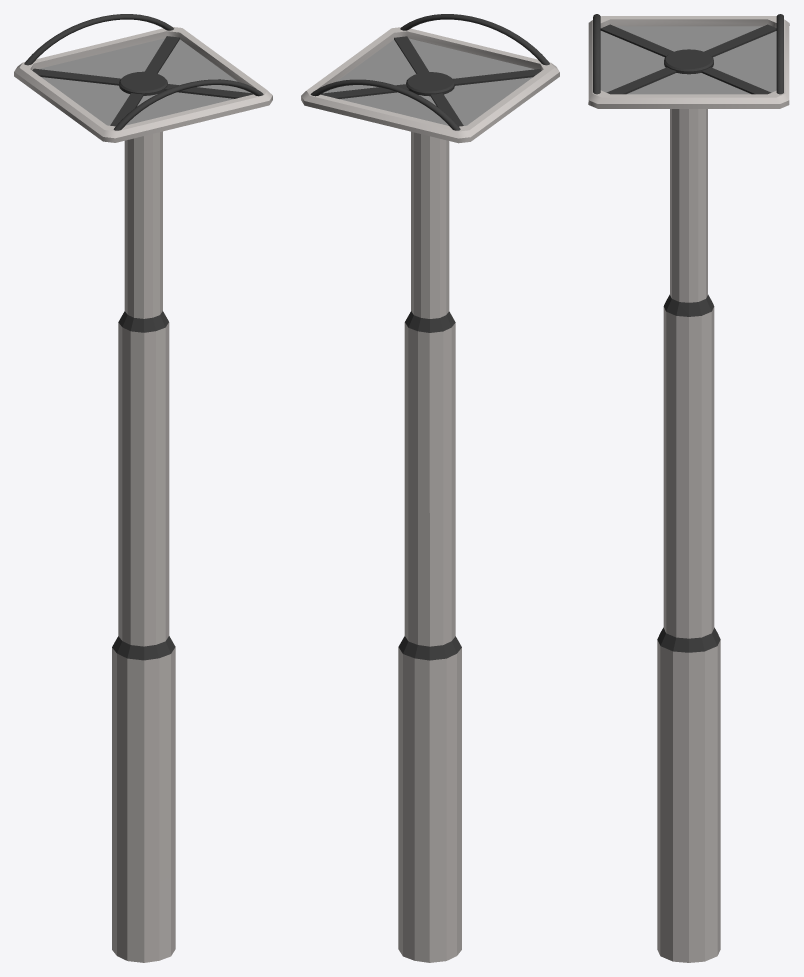
Rendered from piston_lift.obj.
3 views of the same model, side by side, from view 1: azimuth 30°, elevation 25°; view 2: azimuth 150°, elevation 25°; view 3: azimuth 270°, elevation 25° (orthographic). The views are drawn at different scales.
Parts seen in each view (by area): view 1: victory_lift.mdl/victory_lift.smd; view 2: victory_lift.mdl/victory_lift.smd; view 3: victory_lift.mdl/victory_lift.smd.
Boxes of the visible parts, bbox=[...] form: victory_lift.mdl/victory_lift.smd: bbox=[14, 14, 272, 962]; victory_lift.mdl/victory_lift.smd: bbox=[301, 14, 559, 962]; victory_lift.mdl/victory_lift.smd: bbox=[588, 14, 789, 962].
Size of the model in its own units: 1.98 by 10.03 by 1.98.
